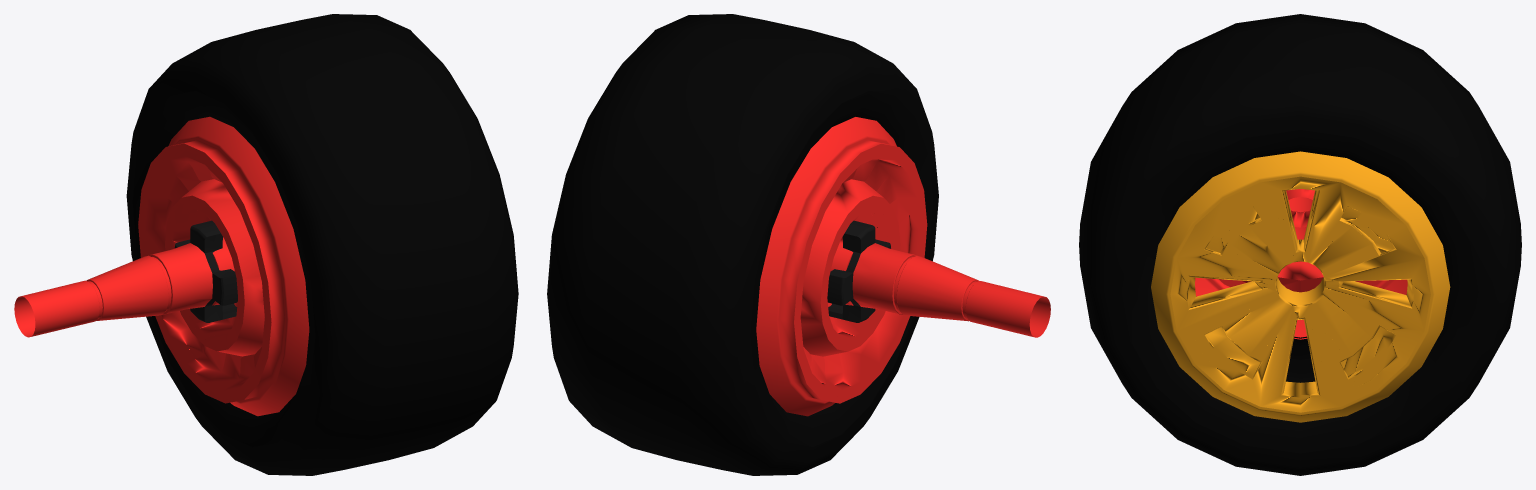
The model's file is Wheel_BL.obj.
The picture shows the model from 3 angles, left to right: view 1: azimuth 30°, elevation 25°; view 2: azimuth 150°, elevation 25°; view 3: azimuth 270°, elevation 25°; orthographic projection. The views are drawn at different scales.
Visible parts, largest first — view 1: Wheel_BL; view 2: Wheel_BL; view 3: Wheel_BL.
Part boxes in pixels (x1=…): Wheel_BL: x1=14, y1=14, x2=518, y2=475; Wheel_BL: x1=547, y1=14, x2=1050, y2=475; Wheel_BL: x1=1079, y1=14, x2=1521, y2=475.
Bounding box in the file's own units: 2.28 × 2.23 × 2.23.
